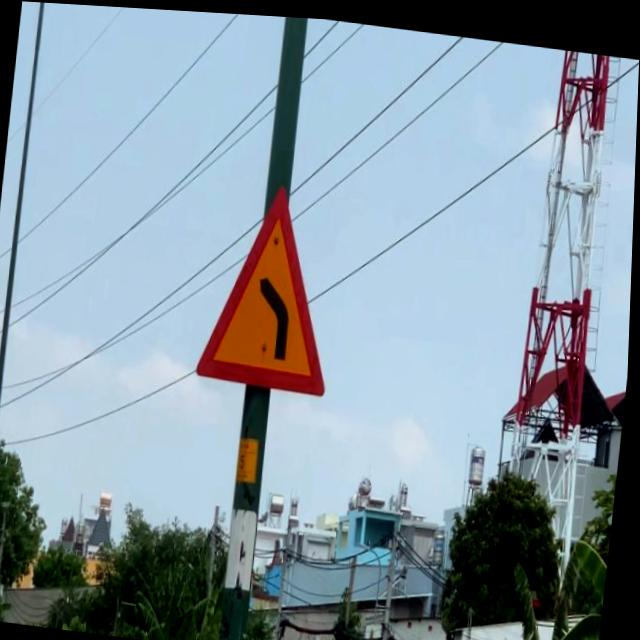cho ngoat nguy hiem vong ben trai: (184, 155, 358, 411)
